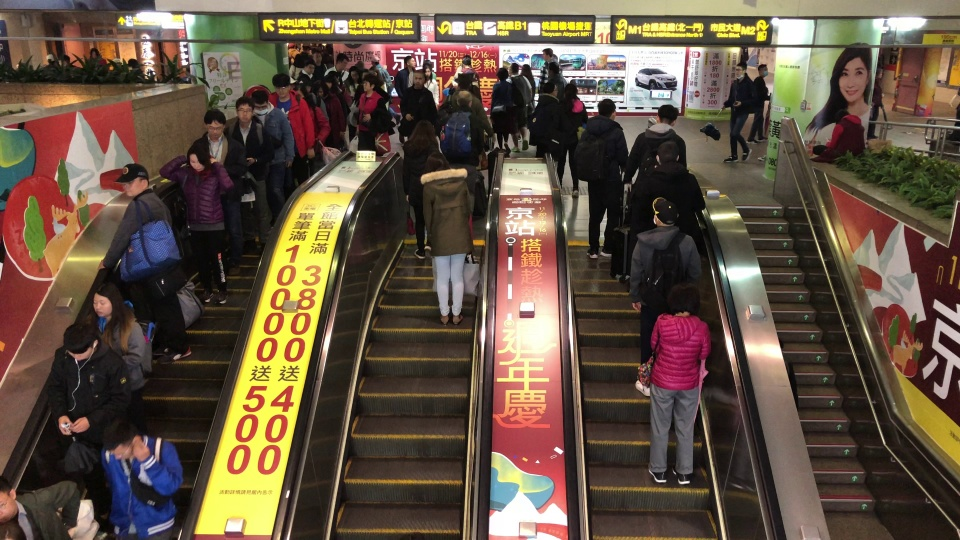person_head: (102, 418, 138, 462), (60, 322, 97, 363), (666, 281, 701, 316), (92, 283, 122, 317), (121, 163, 150, 196), (0, 475, 17, 522), (651, 199, 679, 227), (202, 107, 226, 137), (423, 149, 451, 173), (186, 141, 208, 170), (655, 139, 680, 164), (233, 95, 255, 122), (655, 103, 679, 127), (596, 97, 618, 120), (271, 72, 290, 98), (250, 88, 269, 114), (412, 119, 435, 138), (334, 51, 349, 70), (292, 84, 307, 103), (456, 89, 472, 106), (734, 59, 748, 77), (457, 73, 472, 89), (543, 80, 558, 96), (834, 109, 851, 123), (322, 73, 337, 88), (412, 69, 425, 86), (563, 82, 579, 95), (302, 59, 315, 74), (316, 81, 329, 96), (521, 63, 534, 78), (348, 65, 360, 81), (495, 67, 509, 80), (547, 61, 559, 76), (757, 62, 769, 77), (88, 46, 101, 58), (404, 55, 416, 68), (422, 65, 433, 79), (508, 61, 519, 75), (874, 63, 884, 78), (541, 47, 553, 58), (312, 50, 322, 63), (127, 58, 139, 68), (45, 52, 55, 63), (60, 53, 70, 64), (369, 55, 379, 65), (301, 42, 310, 52), (463, 58, 471, 68), (288, 41, 296, 48)
person_vbox: (102, 162, 192, 362), (44, 322, 131, 521), (627, 199, 703, 398), (646, 281, 712, 485), (159, 141, 235, 305), (622, 103, 687, 277), (101, 417, 184, 540), (84, 283, 150, 431), (419, 149, 473, 327), (191, 107, 247, 276), (223, 95, 273, 247), (630, 139, 706, 234), (585, 98, 629, 260), (435, 89, 495, 194), (250, 88, 295, 209), (267, 71, 315, 184), (0, 475, 80, 540), (401, 119, 436, 260), (550, 83, 588, 199), (720, 60, 756, 164), (449, 72, 494, 139), (810, 108, 866, 158), (399, 69, 438, 140), (291, 84, 331, 153), (525, 80, 559, 160), (488, 66, 517, 153), (505, 62, 532, 153), (744, 63, 770, 144), (370, 55, 400, 125), (393, 55, 416, 143), (316, 81, 346, 147), (866, 62, 885, 140), (342, 65, 360, 142), (537, 47, 561, 91), (288, 42, 312, 79), (323, 52, 349, 85), (422, 64, 440, 108), (456, 57, 480, 86), (521, 62, 536, 100), (546, 60, 567, 87), (295, 58, 316, 83), (313, 51, 331, 79), (287, 41, 299, 57)
